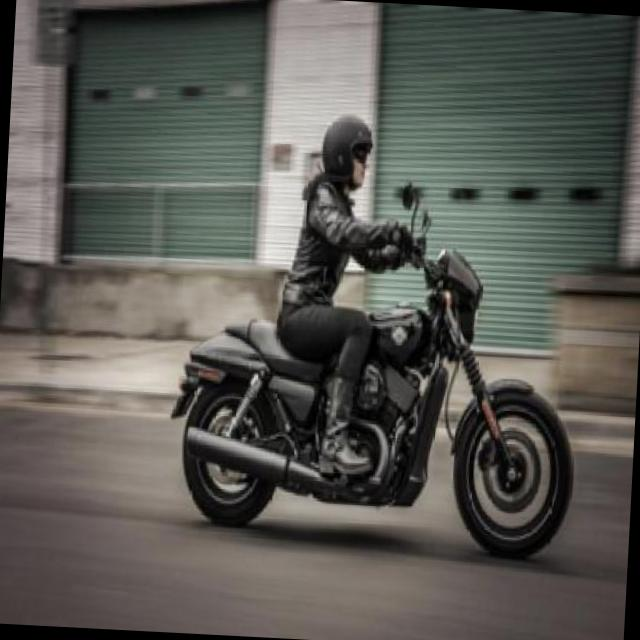With Helmet: (314, 95, 380, 199)
